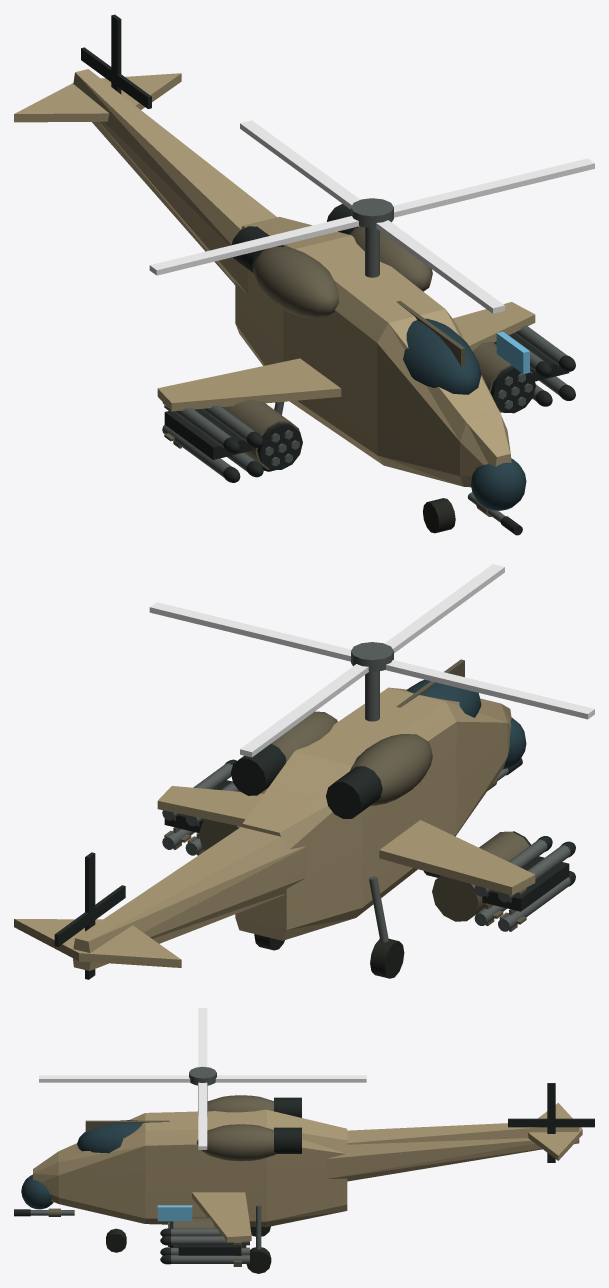
Rendered from heli.glb.
3 views of the same model, one above another, from view 1: azimuth 30°, elevation 25°; view 2: azimuth 150°, elevation 25°; view 3: azimuth 270°, elevation 25° (orthographic). The views are drawn at different scales.
Parts seen in each view (by area): view 1: armor, equipment (×6), glass, marking; view 2: armor, equipment (×6), glass; view 3: armor, equipment (×6), glass, marking.
Boxes of the visible parts, <box> form: armor: <box>14,69,535,487</box>; equipment (×6): <box>81,14,594,533</box>; glass: <box>403,318,526,510</box>; marking: <box>496,331,529,374</box>; armor: <box>14,687,535,970</box>; equipment (×6): <box>54,564,594,979</box>; glass: <box>406,676,526,769</box>; armor: <box>33,1103,582,1242</box>; equipment (×6): <box>14,1008,594,1273</box>; glass: <box>21,1120,141,1209</box>; marking: <box>157,1205,192,1221</box>.
Size of the model in its own units: 4.7 by 2.86 by 8.34.
